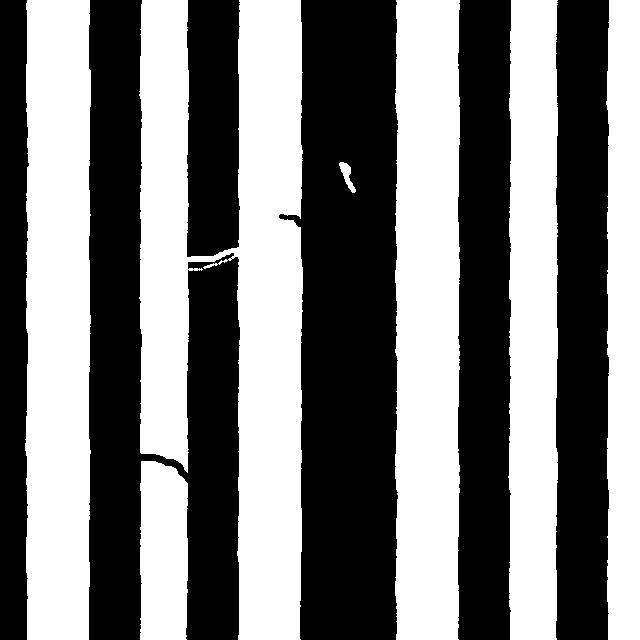open: (170, 237, 254, 280)
pin-hole: (329, 152, 365, 202)
short: (125, 444, 201, 492)
spur: (269, 204, 317, 238)
